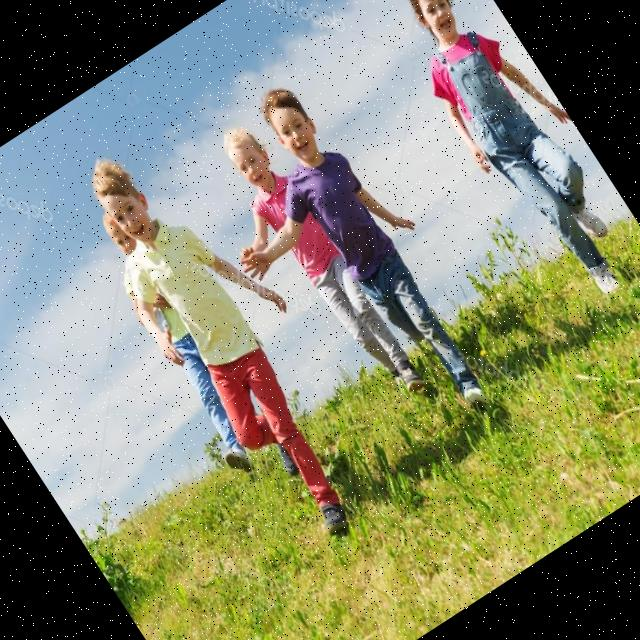Person: (56, 116, 408, 561), (169, 62, 522, 478), (372, 0, 640, 316), (174, 110, 426, 428)
